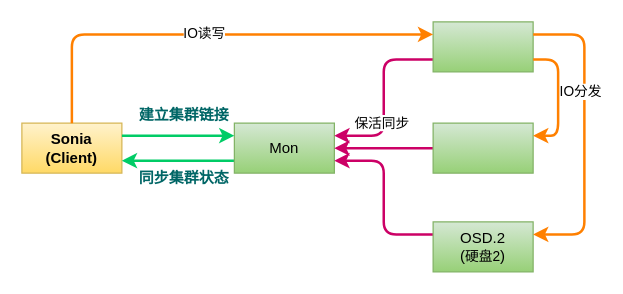
Image size: 623x294. Some labels were removed from this diagram. The centre of each missing label's shape, as x and y in pixels:
OSD.0 ( 硬盘0 ): pixel 482 46
OSD.1 ( 硬盘1 ): pixel 482 147
